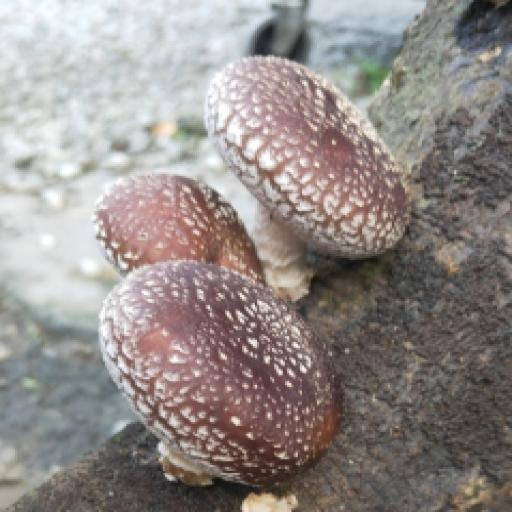Shiitake Mushroom: (31, 147, 356, 512), (179, 34, 417, 289)
